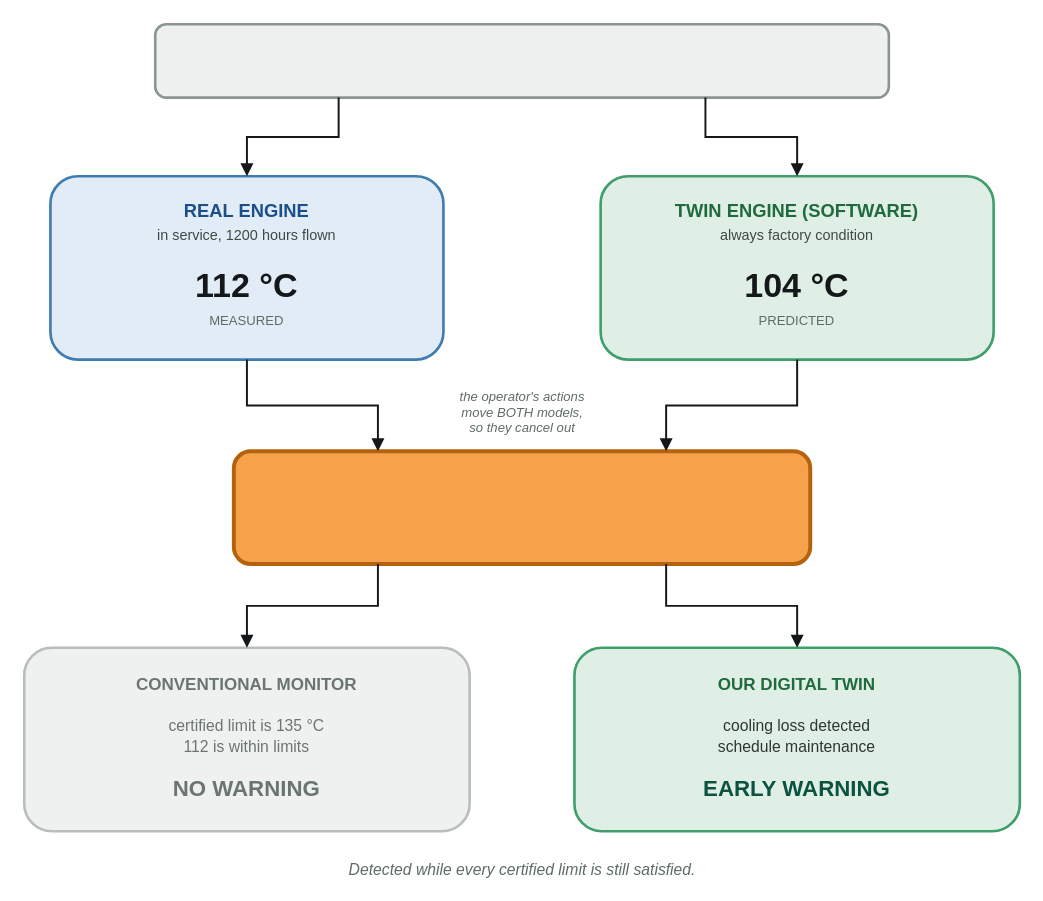
This 1043x901 diagram has some shape labels left out. Each missing label, with the centre of its shape:
DIFFERENCE = 8 °C this is the wear, with the operator's actions removed: point (521, 507)
SAME FLIGHT CONDITIONS throttle · altitude · airspeed · outside air temperature: point (521, 60)
